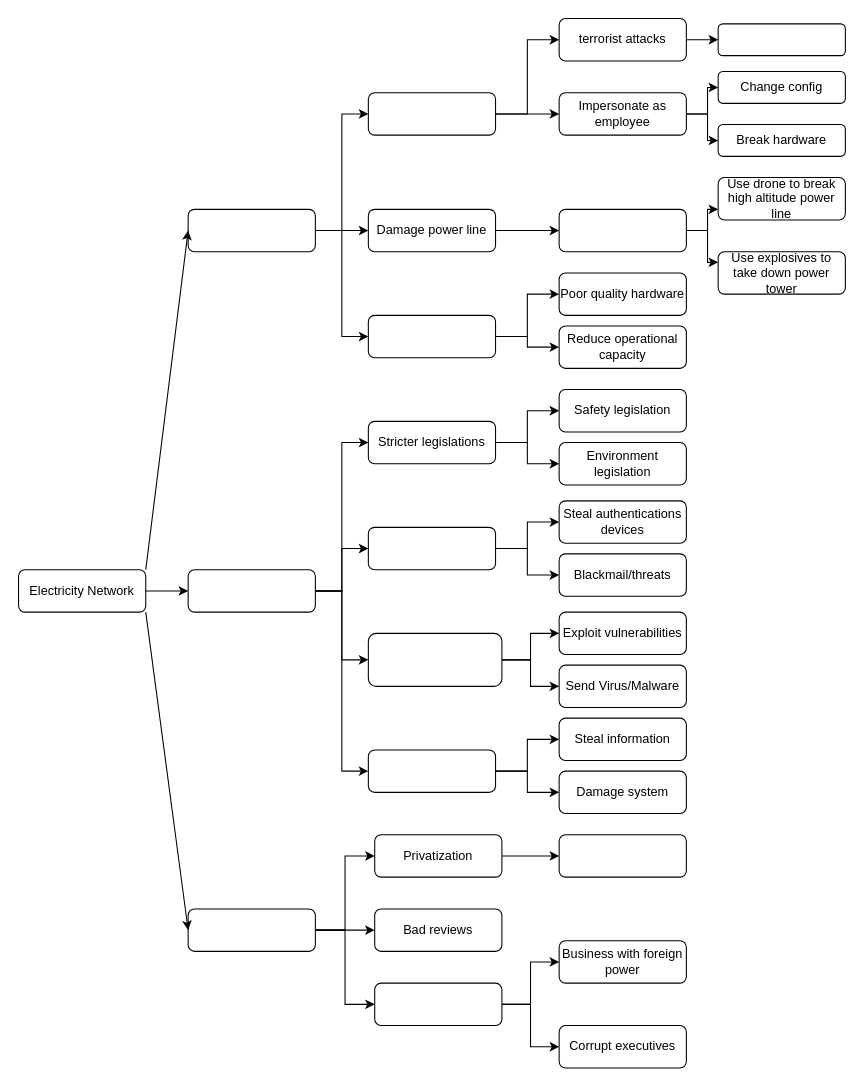
The diagram is 864 pixels wide and 1087 high, and some of its shapes have lost their labels. The shapes that lost their labels are listed below. From the top down, each one's centre as x and y in pixels, then its label:
At point 781,39: "explosives".
At point 431,113: "Damage power station".
At point 251,230: "Physical Harm".
At point 622,230: "Break power line in remote area".
At point 431,336: "Damage supply chain".
At point 431,548: "Harm employee".
At point 251,590: "Harm to Business".
At point 434,659: "Break Software/Control Network".
At point 431,770: "Spy from foreign power impose as employee".
At point 622,855: "Prioritize profit over national security".
At point 251,929: "Harm to Reputation".
At point 438,1004: "Fabricate scandles".
